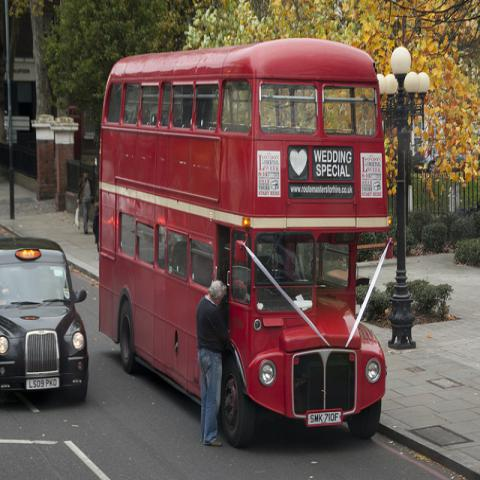bus: (96, 36, 394, 444)
car: (0, 234, 90, 407)
